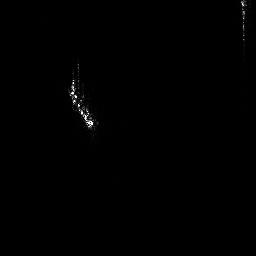ship: (66, 62, 100, 133), (238, 1, 247, 42)
